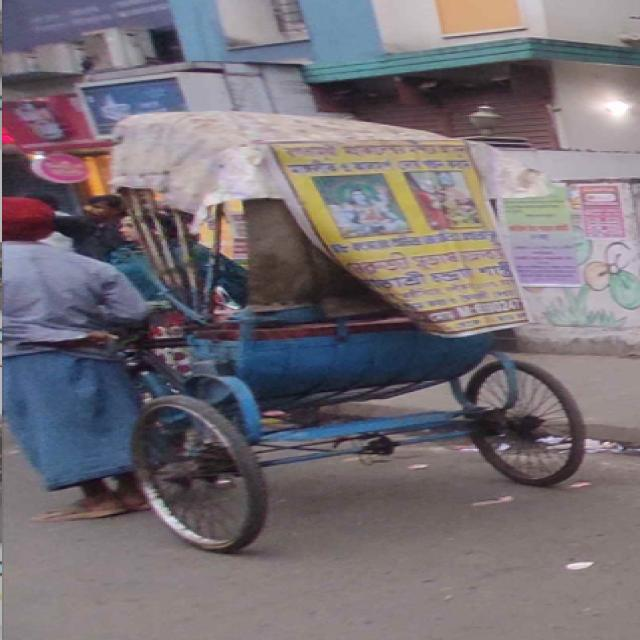rickshaw: (71, 108, 600, 564)
